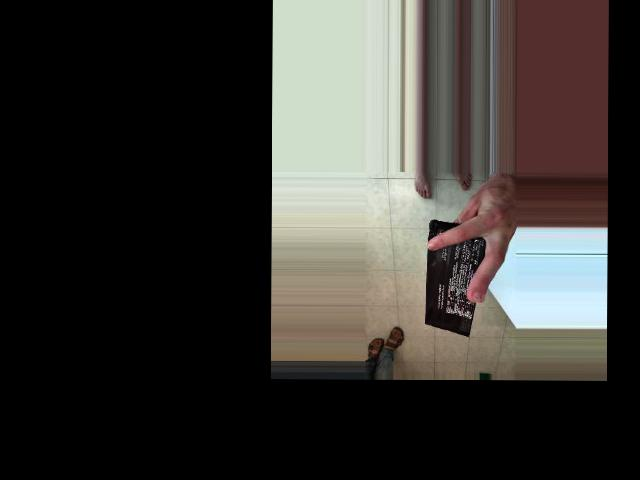chocolate: (352, 243, 486, 316)
